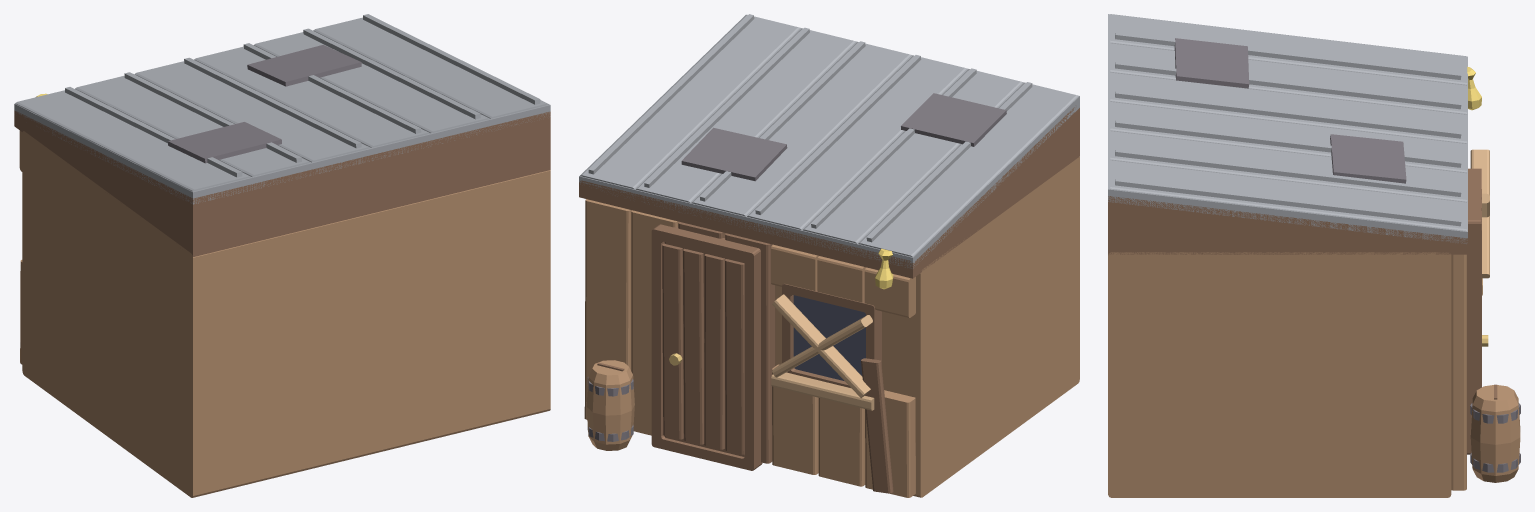
Rendered from Kit_Facade_Shack.fbx.
3 renders of one model, left to right at view 1: azimuth 30°, elevation 25°; view 2: azimuth 150°, elevation 25°; view 3: azimuth 270°, elevation 25°, orthographic. The views are drawn at different scales.
Visible parts, largest first — view 1: Kit_Facade_Shack; view 2: Kit_Facade_Shack; view 3: Kit_Facade_Shack.
Part boxes in pixels (x1,y1,x2,y2): Kit_Facade_Shack: (14,14,550,497); Kit_Facade_Shack: (579,14,1079,497); Kit_Facade_Shack: (1108,14,1520,497).
Size of the model in its own units: 3 by 2.5 by 2.98.
